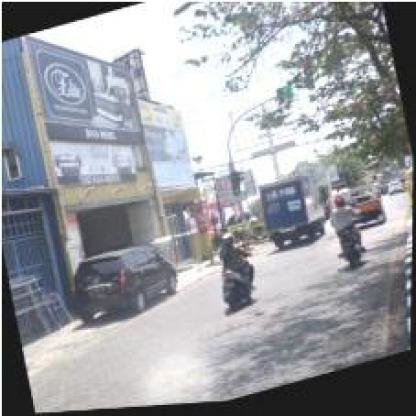green: (228, 175, 241, 199)
